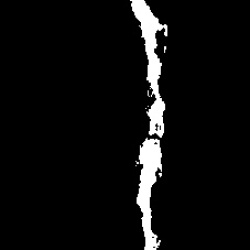crack: (130, 2, 172, 249)
